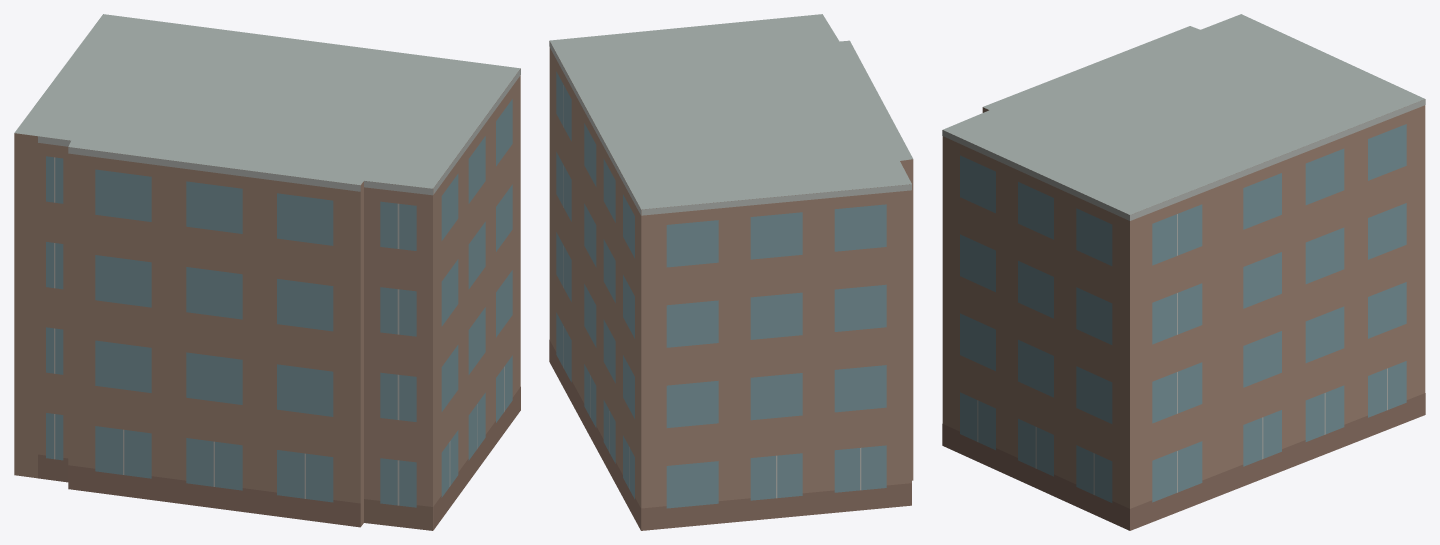
File: survey-upis-32747514.glb
3 renders of one model, left to right at view 1: azimuth 30°, elevation 25°; view 2: azimuth 150°, elevation 25°; view 3: azimuth 270°, elevation 25°, orthographic. The views are drawn at different scales.
Visible parts, largest first — view 1: survey-upis-32747514.tmp; view 2: survey-upis-32747514.tmp; view 3: survey-upis-32747514.tmp.
Part boxes in pixels (x1=…): survey-upis-32747514.tmp: x1=14, y1=14, x2=520, y2=530; survey-upis-32747514.tmp: x1=549, y1=14, x2=913, y2=530; survey-upis-32747514.tmp: x1=942, y1=14, x2=1425, y2=530.
Size of the model in its own units: 17.34 by 12.7 by 17.61.
